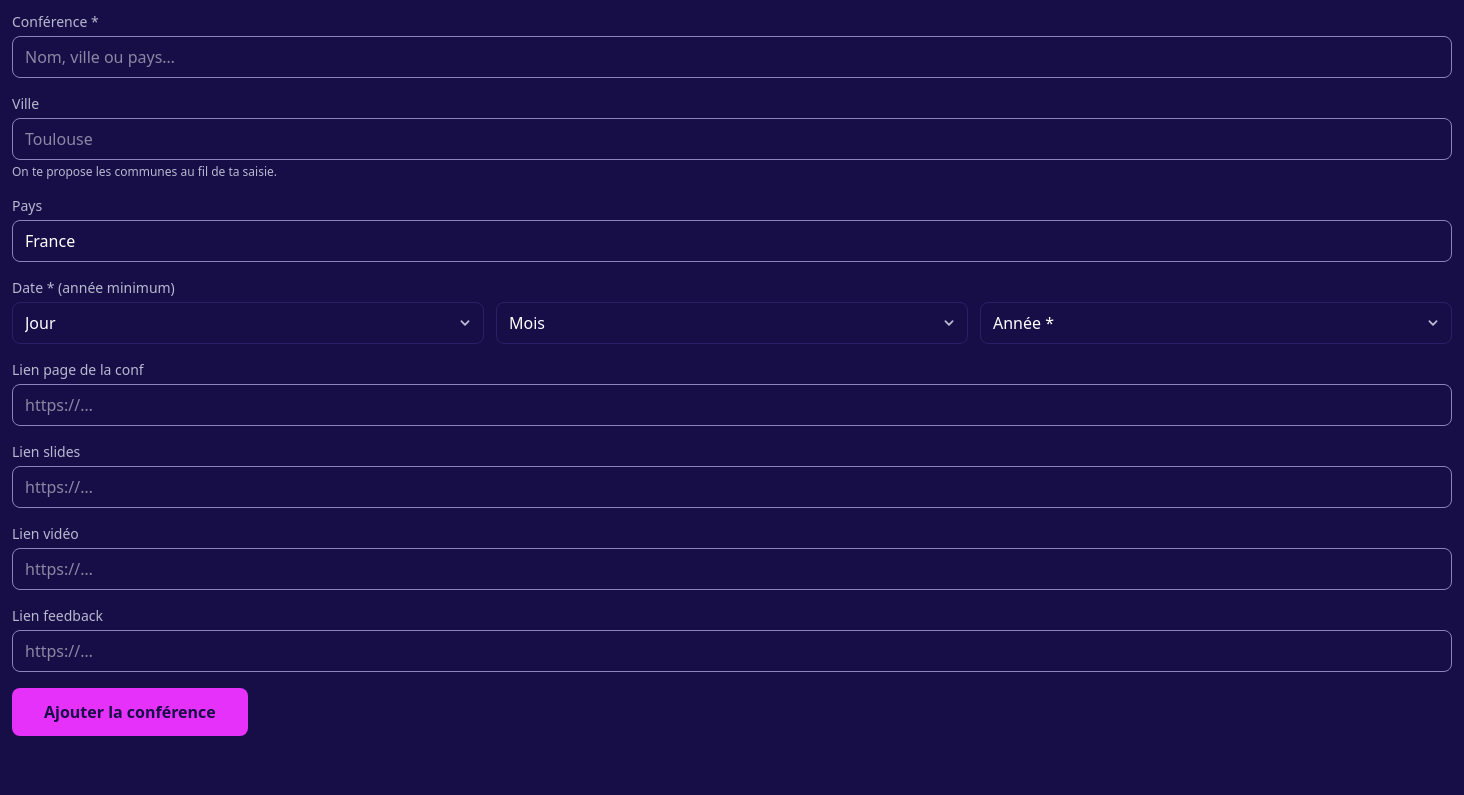
Scenario: OccurrenceForm — toute erreur serveur est visible (anti échec silencieux) › affiche l'erreur de ville
Select "2026" in the 3rd dropdown named "Année" at (1216, 323), box [980,302,1452,344]
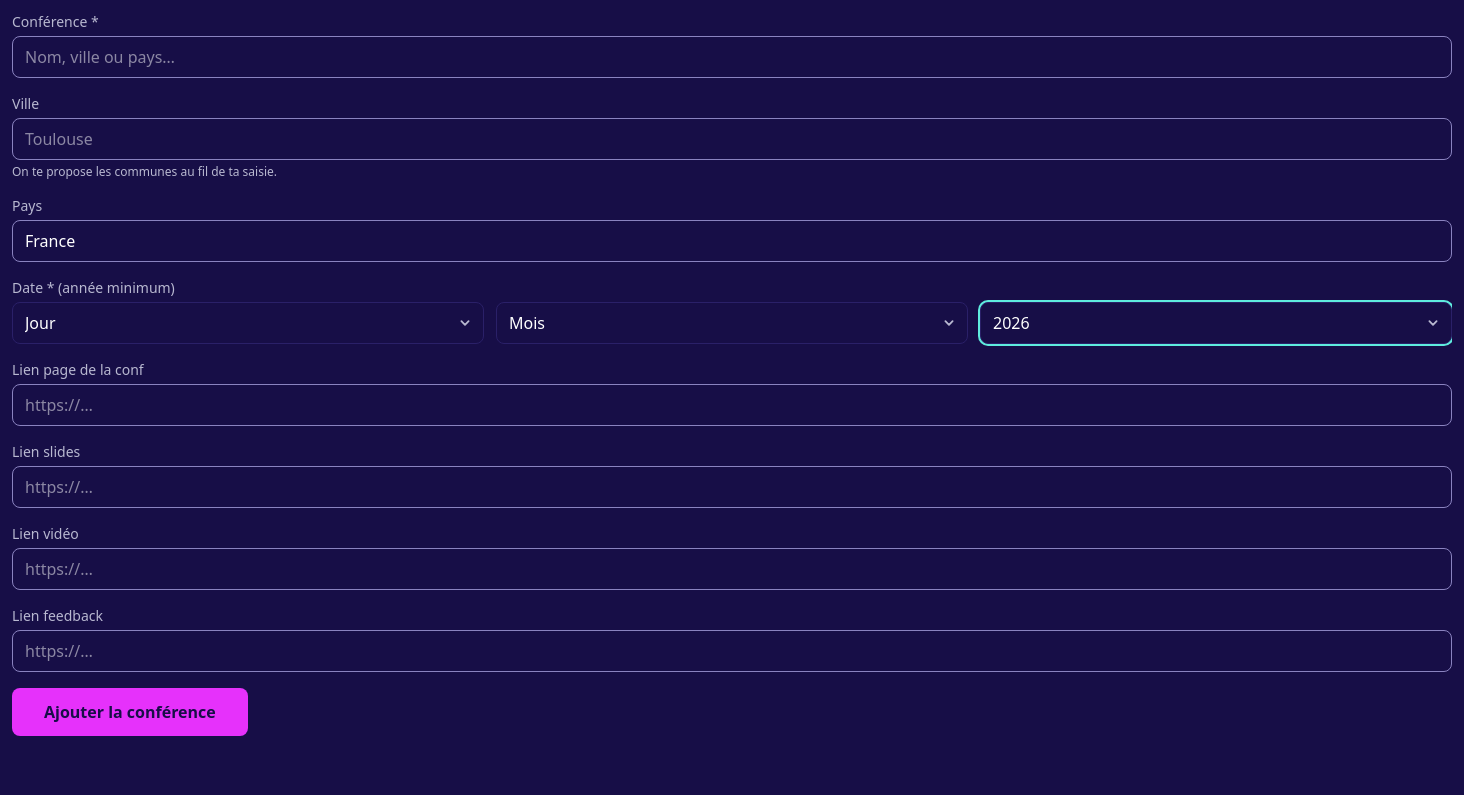
Click the button "Ajouter la conférence".
click(130, 712)  # box [12,688,248,736]
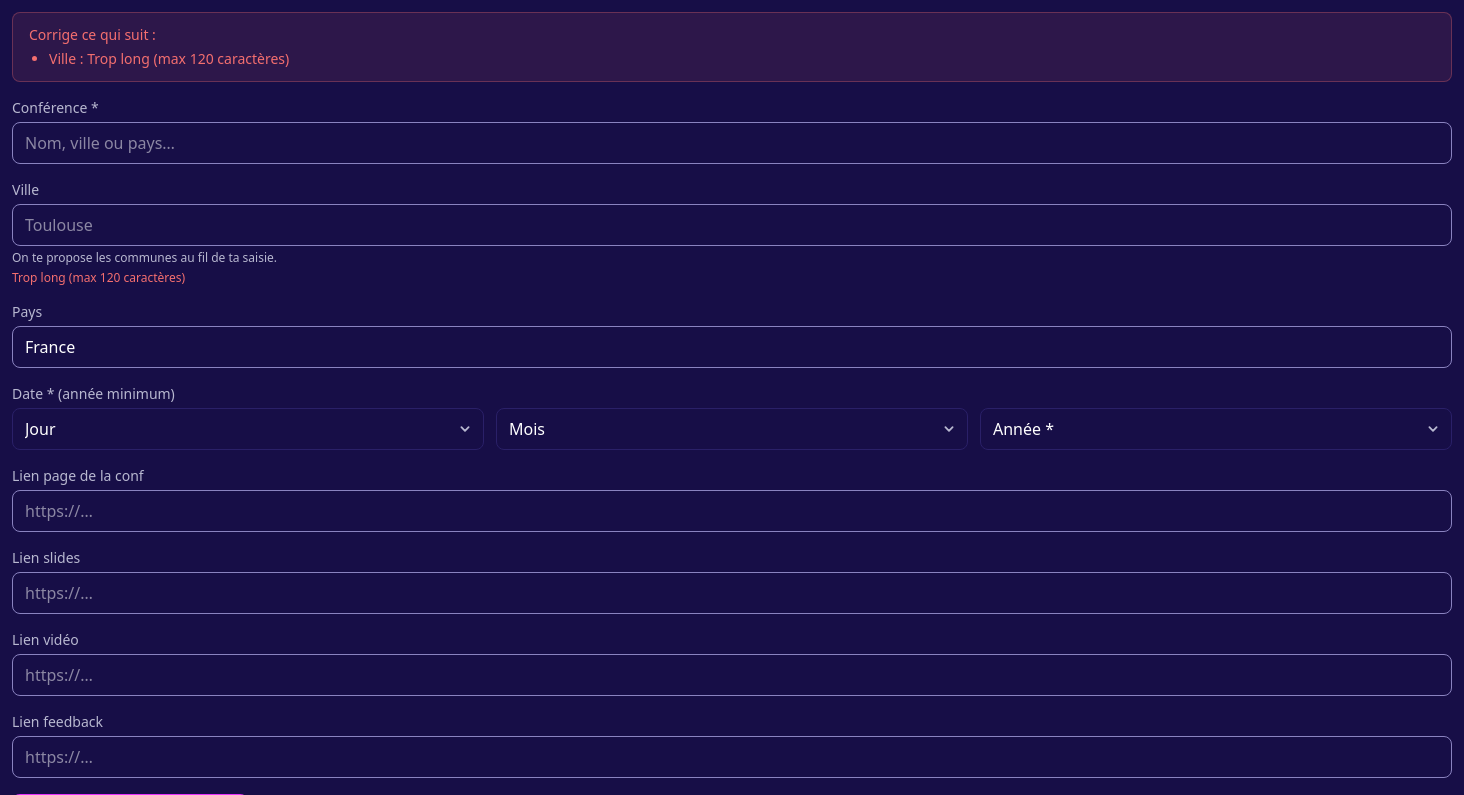
expect the text "Trop long (max 120 caractères)" is shown: met, box [12,269,185,286]
